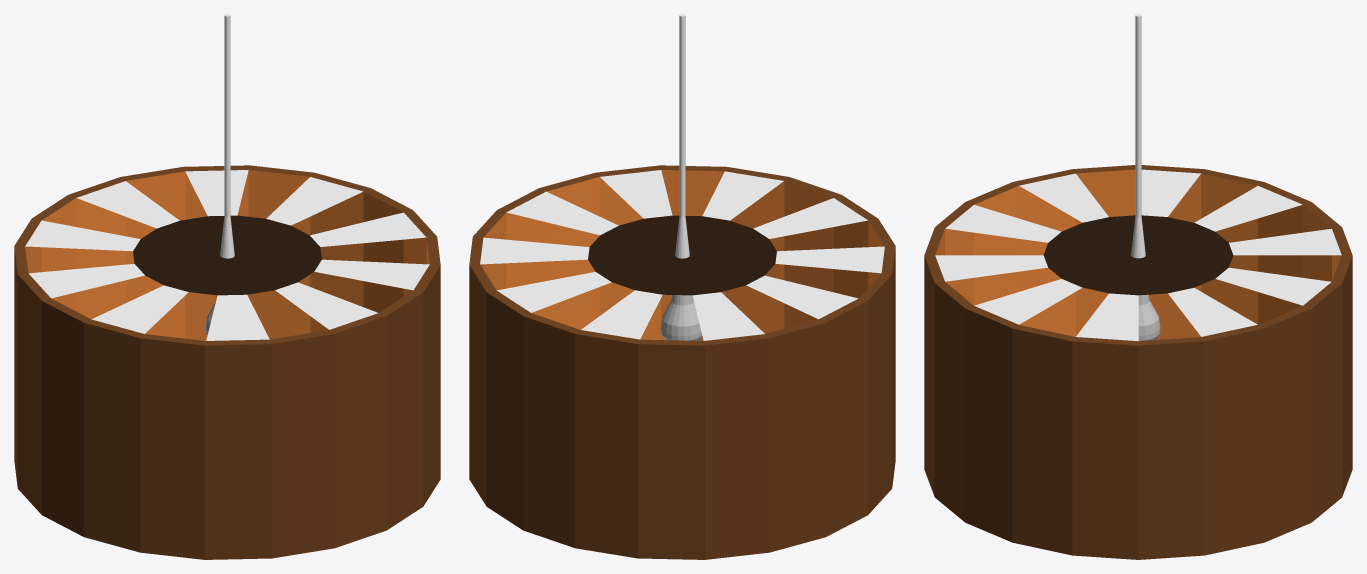
File: CeilingLight.obj
3 views of the same model, side by side, from view 1: azimuth 30°, elevation 25°; view 2: azimuth 150°, elevation 25°; view 3: azimuth 270°, elevation 25° (orthographic).
Parts seen in each view (by area): view 1: CeilingLamp_Cylinder; view 2: CeilingLamp_Cylinder; view 3: CeilingLamp_Cylinder.
Part boxes in pixels (box(x1,y1,x2,y2)): CeilingLamp_Cylinder: box(14, 14, 440, 559); CeilingLamp_Cylinder: box(469, 14, 895, 559); CeilingLamp_Cylinder: box(924, 14, 1352, 559).
Size of the model in its own units: 2 by 2.34 by 2.
